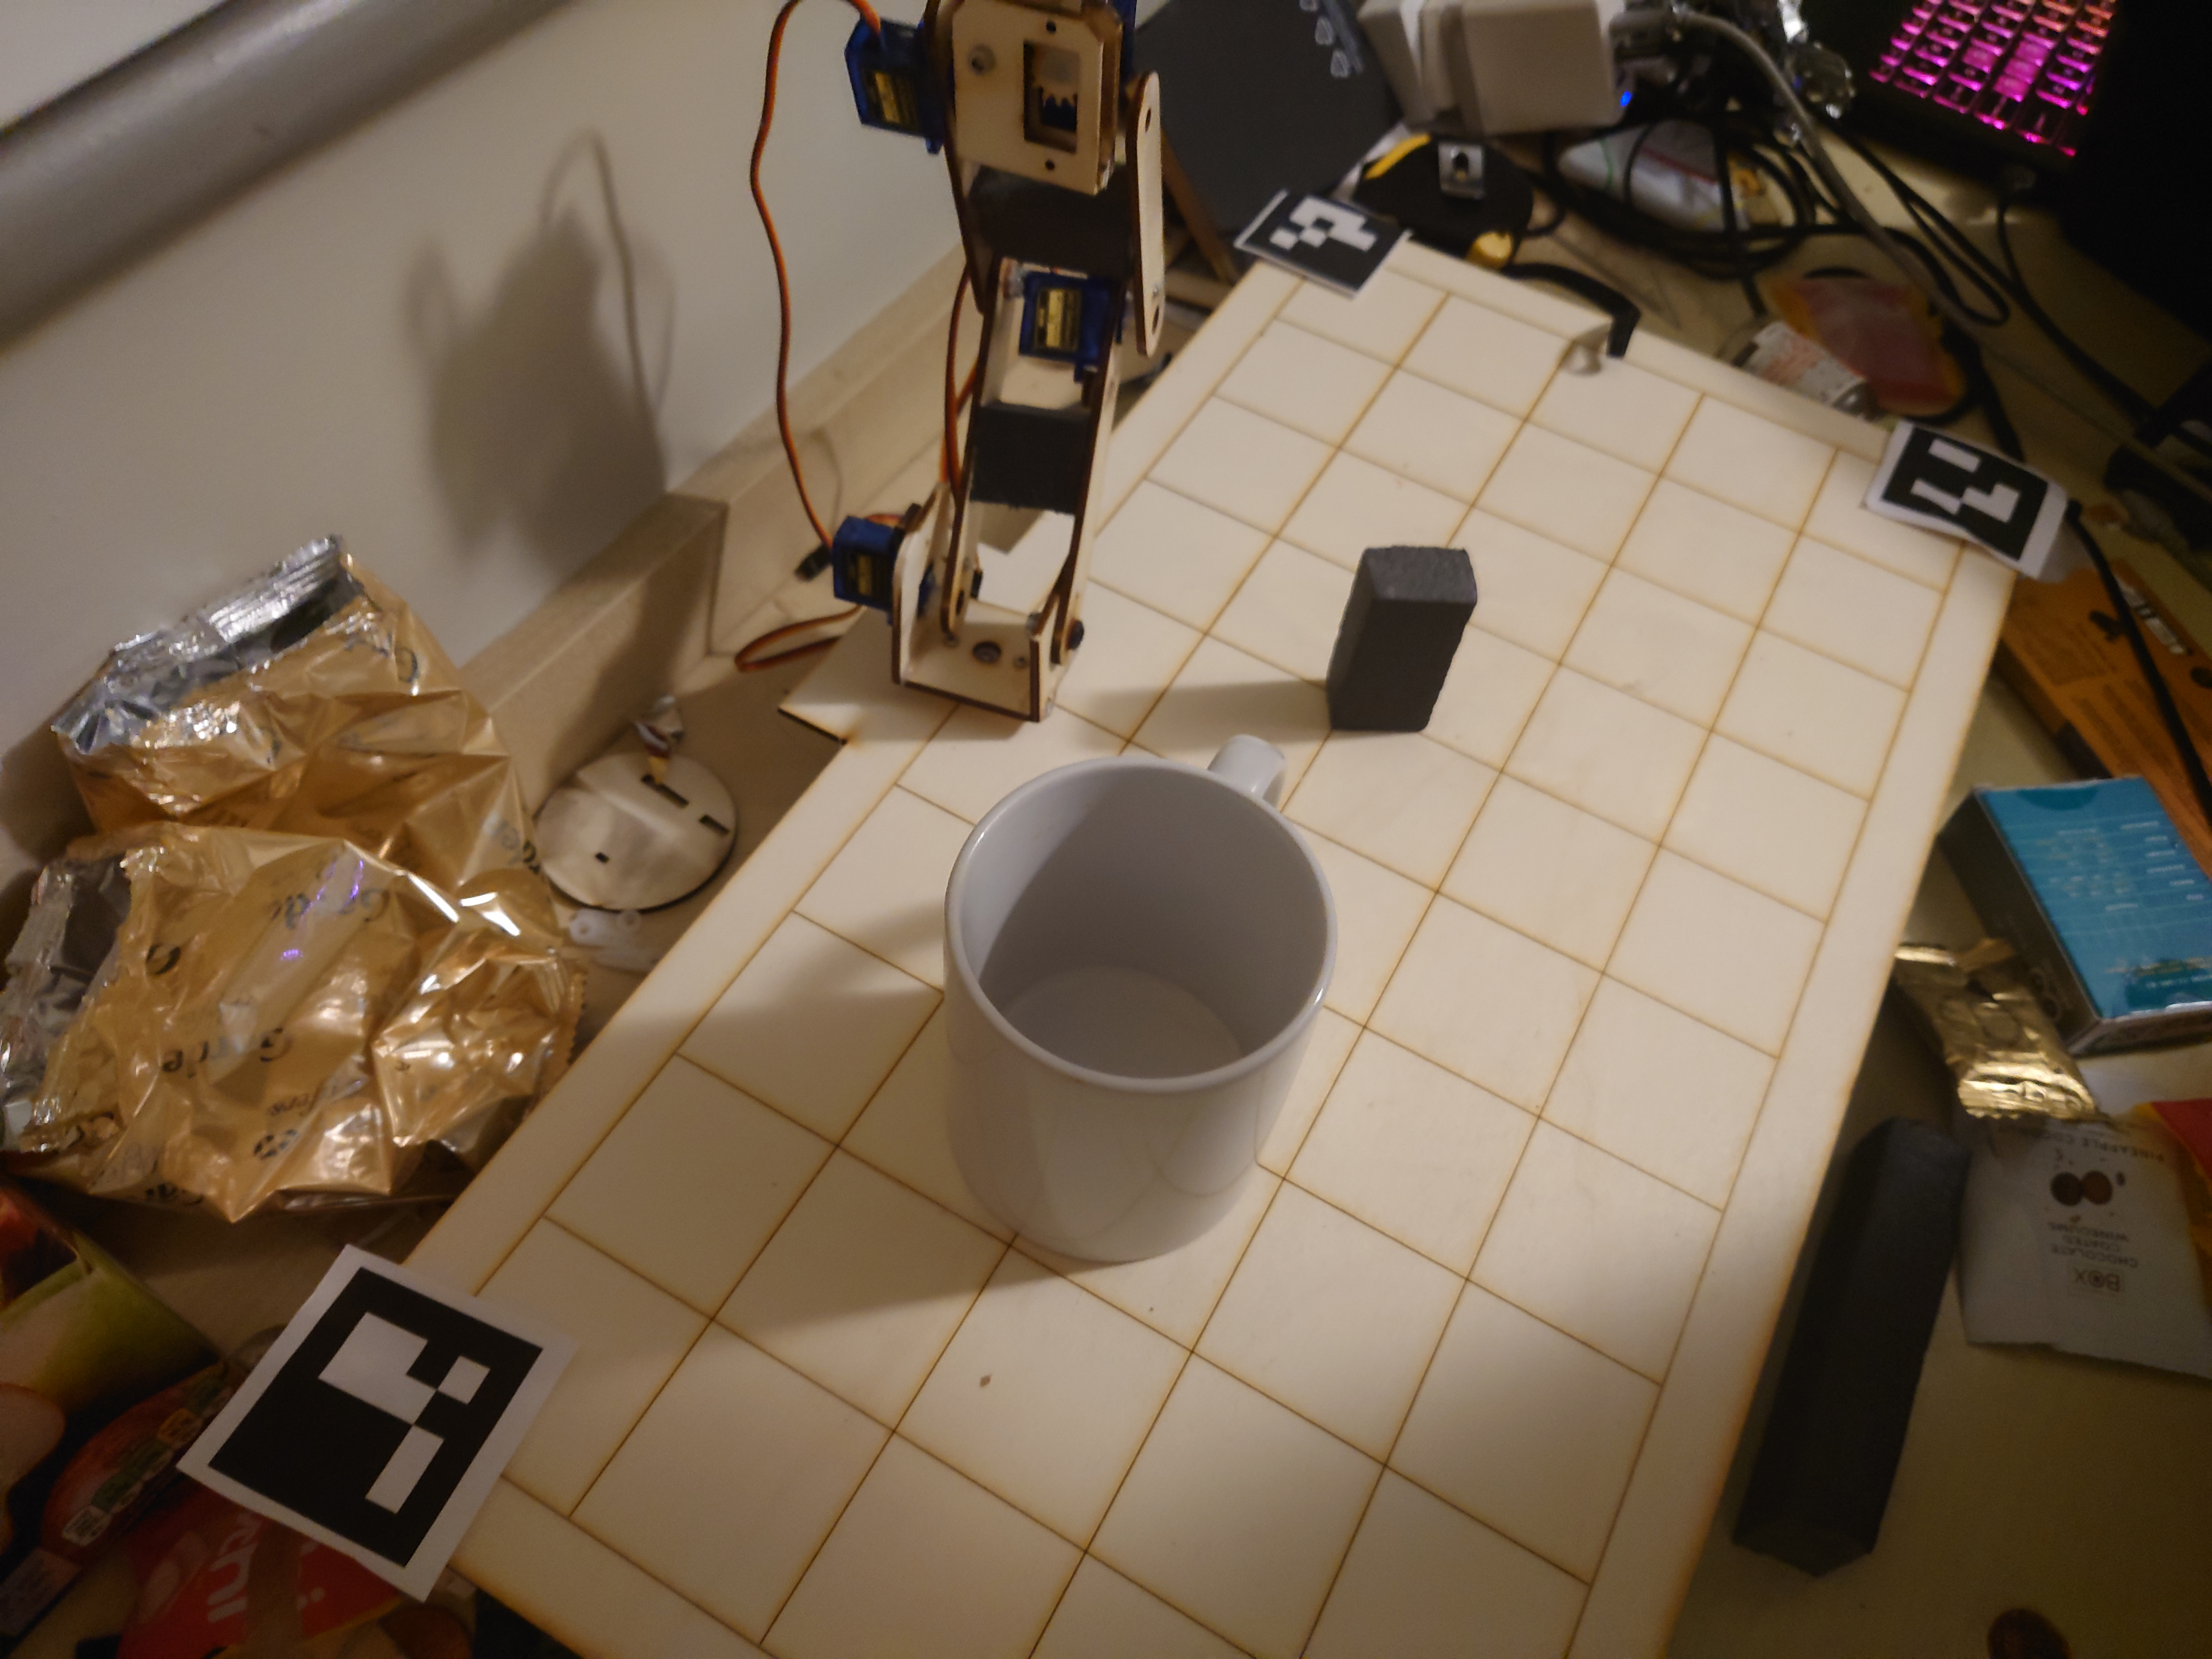target: (934, 723, 1338, 1267), (1325, 544, 1477, 734)
